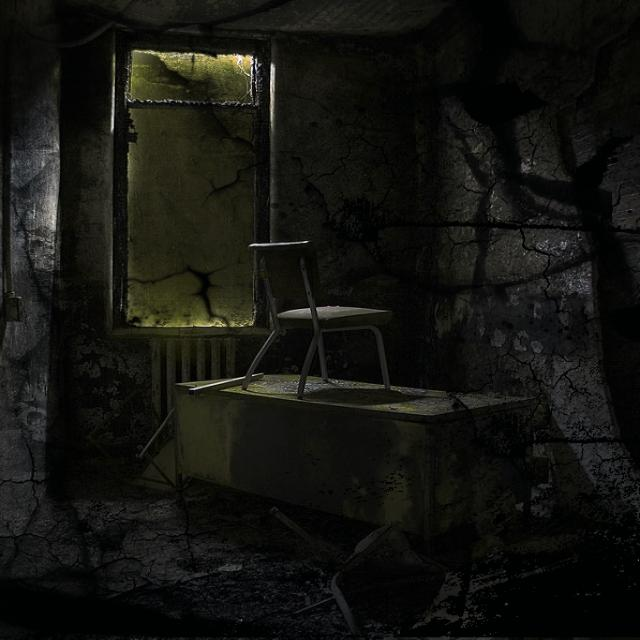Table: (157, 359, 542, 549)
chair: (242, 210, 397, 407)
